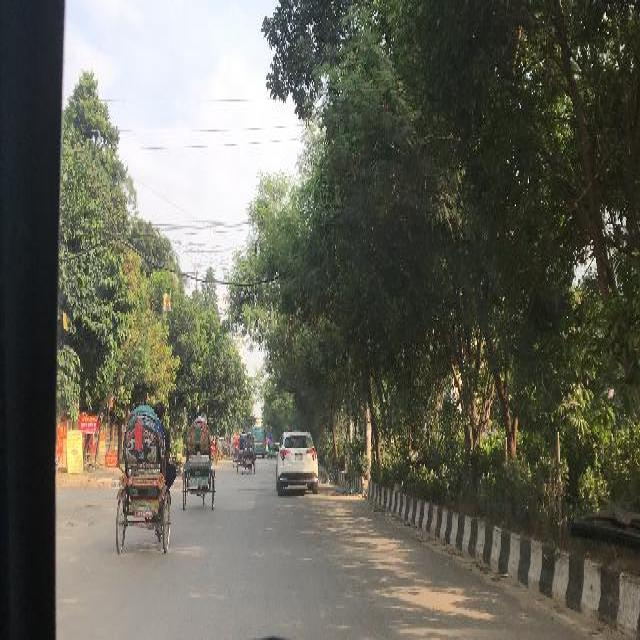vehicle: (115, 405, 171, 558), (183, 418, 214, 508), (277, 430, 319, 496), (245, 433, 256, 472), (256, 427, 266, 457), (238, 432, 244, 473), (212, 441, 218, 468), (268, 439, 276, 459)
